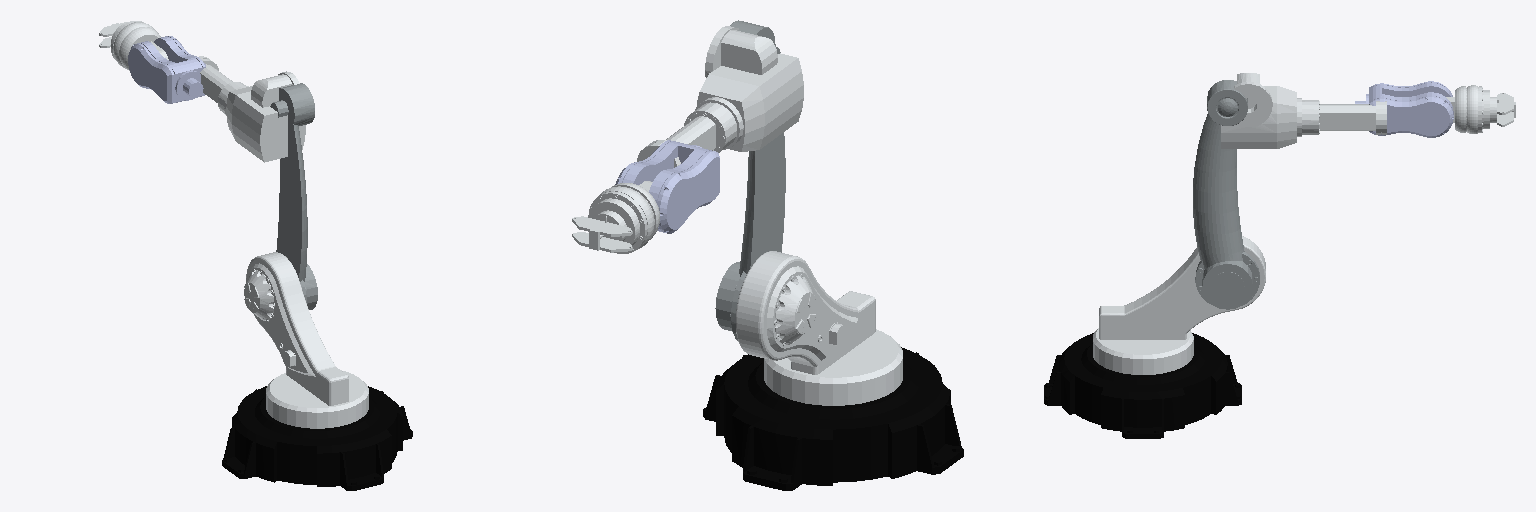
robot.urdf — dof6arm:
<?xml version="1.0" encoding="utf-8"?>
<!-- This URDF was automatically created by SolidWorks to URDF Exporter! Originally created by Stephen Brawner (brawner@gmail.com) 
     Commit Version: 1.6.0-4-g7f85cfe  Build Version: 1.6.7995.38578
     For more information, please see http://wiki.ros.org/sw_urdf_exporter -->
<robot
  name="dof6arm">
  <link
    name="base_link">
    <inertial>
      <origin
        xyz="-4.0770194671452E-17 5.83561963043712E-17 0.0396270399100885"
        rpy="0 0 0" />
      <mass
        value="5.51043299491621" />
      <inertia
        ixx="0.0325325116702204"
        ixy="-5.66701954647961E-17"
        ixz="6.57943646357064E-18"
        iyy="0.0325325116702204"
        iyz="1.85395737247361E-18"
        izz="0.0589048225198257" />
    </inertial>
    <visual>
      <origin
        xyz="0 0 0"
        rpy="0 0 0" />
      <geometry>
        <mesh
          filename="package://dof6arm/meshes/base_link.STL" />
      </geometry>
      <material
        name="">
        <color
          rgba="0.0588235294117647 0.0588235294117647 0.0588235294117647 1" />
      </material>
    </visual>
    <collision>
      <origin
        xyz="0 0 0"
        rpy="0 0 0" />
      <geometry>
        <mesh
          filename="package://dof6arm/meshes/base_link.STL" />
      </geometry>
    </collision>
  </link>
  <link
    name="link1">
    <inertial>
      <origin
        xyz="0.0563146133187169 0.00239652717597299 0.0813964976165743"
        rpy="0 0 0" />
      <mass
        value="2.25493378297323" />
      <inertia
        ixx="0.011607639577804"
        ixy="-0.000401687438060295"
        ixz="-0.00887971625811838"
        iyy="0.0231563698921059"
        iyz="-0.000351050031071559"
        izz="0.0158798775719755" />
    </inertial>
    <visual>
      <origin
        xyz="0 0 0"
        rpy="0 0 0" />
      <geometry>
        <mesh
          filename="package://dof6arm/meshes/link1.STL" />
      </geometry>
      <material
        name="">
        <color
          rgba="0.898039215686275 0.917647058823529 0.929411764705882 1" />
      </material>
    </visual>
    <collision>
      <origin
        xyz="0 0 0"
        rpy="0 0 0" />
      <geometry>
        <mesh
          filename="package://dof6arm/meshes/link1.STL" />
      </geometry>
    </collision>
  </link>
  <joint
    name="joint0"
    type="continuous">
    <origin
      xyz="0 0 0.085"
      rpy="0 0 1.57079632679489" />
    <parent
      link="base_link" />
    <child
      link="link1" />
    <axis
      xyz="0 0 1" />
    <limit
      lower="0"
      upper="6.28"
      effort="200"
      velocity="10" />
  </joint>
  <link
    name="link2">
    <inertial>
      <origin
        xyz="-0.00806034777883222 0.142663588040641 0.015222810563985"
        rpy="0 0 0" />
      <mass
        value="0.920714229759599" />
      <inertia
        ixx="0.0178612448022285"
        ixy="0.00015240648671748"
        ixz="-3.03747804024019E-05"
        iyy="0.000614865169369136"
        iyz="7.16300104564684E-05"
        izz="0.0182052343067563" />
    </inertial>
    <visual>
      <origin
        xyz="0 0 0"
        rpy="0 0 0" />
      <geometry>
        <mesh
          filename="package://dof6arm/meshes/link2.STL" />
      </geometry>
      <material
        name="">
        <color
          rgba="0.63921568627451 0.666666666666667 0.67843137254902 1" />
      </material>
    </visual>
    <collision>
      <origin
        xyz="0 0 0"
        rpy="0 0 0" />
      <geometry>
        <mesh
          filename="package://dof6arm/meshes/link2.STL" />
      </geometry>
    </collision>
  </link>
  <joint
    name="joint1"
    type="continuous">
    <origin
      xyz="0.150000000000022 -0.019999999999832 0.159999999999999"
      rpy="1.5707963267949 0 0" />
    <parent
      link="link1" />
    <child
      link="link2" />
    <axis
      xyz="0 0 1" />
    <limit
      lower="-0.70"
      upper="0.70"
      effort="200"
      velocity="10" />
  </joint>
  <link
    name="link3">
    <inertial>
      <origin
        xyz="-0.0399152602038644 -0.0446167070292327 -0.0460373494010405"
        rpy="0 0 0" />
      <mass
        value="1.43145554418529" />
      <inertia
        ixx="0.0080767659102491"
        ixy="-0.000324747907195899"
        ixz="-0.000112859910370775"
        iyy="0.00186636959248532"
        iyz="-9.34139422817104E-05"
        izz="0.00844554620214216" />
    </inertial>
    <visual>
      <origin
        xyz="0 0 0"
        rpy="0 0 0" />
      <geometry>
        <mesh
          filename="package://dof6arm/meshes/link3.STL" />
      </geometry>
      <material
        name="">
        <color
          rgba="0.898039215686275 0.917647058823529 0.929411764705882 1" />
      </material>
    </visual>
    <collision>
      <origin
        xyz="0 0 0"
        rpy="0 0 0" />
      <geometry>
        <mesh
          filename="package://dof6arm/meshes/link3.STL" />
      </geometry>
    </collision>
  </link>
  <joint
    name="joint2"
    type="continuous">
    <origin
      xyz="0 0.350000000000001 0"
      rpy="0 0 1.5707963267949" />
    <parent
      link="link2" />
    <child
      link="link3" />
    <axis
      xyz="0 0 1" />
    <limit
      lower="-4.71"
      upper="1.57"
      effort="200"
      velocity="10" />
  </joint>
  <link
    name="link4">
    <inertial>
      <origin
        xyz="-1.11022302462516E-16 -1.00613961606655E-15 0.065964889335451"
        rpy="0 0 0" />
      <mass
        value="0.581435273248316" />
      <inertia
        ixx="0.00158017066215487"
        ixy="2.44381629720969E-10"
        ixz="-7.39109767867271E-19"
        iyy="0.0014063460239573"
        iyz="-1.0554814422074E-18"
        izz="0.000596523986913165" />
    </inertial>
    <visual>
      <origin
        xyz="0 0 0"
        rpy="0 0 0" />
      <geometry>
        <mesh
          filename="package://dof6arm/meshes/link4.STL" />
      </geometry>
      <material
        name="">
        <color
          rgba="0.792156862745098 0.819607843137255 0.933333333333333 1" />
      </material>
    </visual>
    <collision>
      <origin
        xyz="0 0 0"
        rpy="0 0 0" />
      <geometry>
        <mesh
          filename="package://dof6arm/meshes/link4.STL" />
      </geometry>
    </collision>
  </link>
  <joint
    name="joint3"
    type="continuous">
    <origin
      xyz="-0.045 -0.251 -0.0474999999999995"
      rpy="1.5707963267949 0 0" />
    <parent
      link="link3" />
    <child
      link="link4" />
    <axis
      xyz="0 0 1" />
    <limit
      lower="-3.14"
      upper="3.14"
      effort="200"
      velocity="10" />
  </joint>
  <link
    name="link5">
    <inertial>
      <origin
        xyz="0 -0.0589618551287789 0.00017831823908418"
        rpy="0 0 0" />
      <mass
        value="0.339144547925522" />
      <inertia
        ixx="0.000355541202477726"
        ixy="-2.59477164725886E-22"
        ixz="1.64281985827674E-22"
        iyy="0.000248853470602005"
        iyz="-3.56575702010573E-06"
        izz="0.000358769992191287" />
    </inertial>
    <visual>
      <origin
        xyz="0 0 0"
        rpy="0 0 0" />
      <geometry>
        <mesh
          filename="package://dof6arm/meshes/link5.STL" />
      </geometry>
      <material
        name="">
        <color
          rgba="0.898039215686275 0.917647058823529 0.929411764705882 1" />
      </material>
    </visual>
    <collision>
      <origin
        xyz="0 0 0"
        rpy="0 0 0" />
      <geometry>
        <mesh
          filename="package://dof6arm/meshes/link5.STL" />
      </geometry>
    </collision>
  </link>
  <joint
    name="joint4"
    type="continuous">
    <origin
      xyz="0 0.00050000000000075 0.11"
      rpy="-1.5707963267949 0 0" />
    <parent
      link="link4" />
    <child
      link="link5" />
    <axis
      xyz="0 0 1" />
    <limit
      lower="-1.57"
      upper="1.57"
      effort="200"
      velocity="10" />
  </joint>
  <link
    name="link6">
    <inertial>
      <origin
        xyz="1.11022302462516E-16 -1.17961196366423E-15 0.00628470620704225"
        rpy="0 0 0" />
      <mass
        value="0.0762574810565132" />
      <inertia
        ixx="3.79559798700621E-05"
        ixy="-5.78143732477703E-21"
        ixz="3.82889549930142E-22"
        iyy="3.20288004196063E-05"
        iyz="2.64604355316731E-20"
        izz="3.99525744954328E-05" />
    </inertial>
    <visual>
      <origin
        xyz="0 0 0"
        rpy="0 0 0" />
      <geometry>
        <mesh
          filename="package://dof6arm/meshes/link6.STL" />
      </geometry>
      <material
        name="">
        <color
          rgba="0.898039215686275 0.917647058823529 0.929411764705882 1" />
      </material>
    </visual>
    <collision>
      <origin
        xyz="0 0 0"
        rpy="0 0 0" />
      <geometry>
        <mesh
          filename="package://dof6arm/meshes/link6.STL" />
      </geometry>
    </collision>
  </link>
  <joint
    name="joint5"
    type="continuous">
    <origin
      xyz="0 -0.104 0"
      rpy="1.5707963267949 0 0" />
    <parent
      link="link5" />
    <child
      link="link6" />
    <axis
      xyz="0 0 1" />
    <limit
      lower="-3.14"
      upper="3.14"
      effort="200"
      velocity="10" />
  </joint>
  <link
    name="endfector">
    <inertial>
      <origin
        xyz="1.11022302462516E-16 -1.12410081243297E-15 -0.0393199974870748"
        rpy="0 0 0" />
      <mass
        value="0.0762574810565132" />
      <inertia
        ixx="3.79559798700621E-05"
        ixy="-3.42762367535721E-21"
        ixz="4.79566405709865E-23"
        iyy="3.20288004196063E-05"
        iyz="3.36252849364977E-21"
        izz="3.99525744954328E-05" />
    </inertial>
    <visual>
      <origin
        xyz="0 0 0"
        rpy="0 0 0" />
      <geometry>
        <mesh
          filename="package://dof6arm/meshes/endfector.STL" />
      </geometry>
      <material
        name="">
        <color
          rgba="0.898039215686275 0.917647058823529 0.929411764705882 1" />
      </material>
    </visual>
    <collision>
      <origin
        xyz="0 0 0"
        rpy="0 0 0" />
      <geometry>
        <mesh
          filename="package://dof6arm/meshes/endfector.STL" />
      </geometry>
    </collision>
  </link>
  <joint
    name="joint6"
    type="fixed">
    <origin
      xyz="0 0 0.045605"
      rpy="0 0 0" />
    <parent
      link="link6" />
    <child
      link="endfector" />
    <axis
      xyz="0 0 0" />
  </joint>
</robot>

--- Facts derived from the render (not from the file) ---
The picture shows the robot from 3 angles, left to right: view 1: azimuth 30°, elevation 25°; view 2: azimuth 150°, elevation 25°; view 3: azimuth 270°, elevation 25°; orthographic projection.
Model dof6arm with 8 links and 7 joints (6 continuous, 1 fixed), rooted at base_link, posed every joint at zero.
Links seen in each view (by area): view 1: base_link, link1, link2, link3, link4, link5; view 2: base_link, link1, link3, link2, link4, link6, link5; view 3: base_link, link2, link1, link3, link4, link5, link6.
Boxes of the visible links, bbox=[...] form: base_link: bbox=[222, 386, 412, 490]; link1: bbox=[244, 252, 368, 428]; link2: bbox=[270, 83, 317, 309]; link3: bbox=[199, 56, 305, 162]; link4: bbox=[128, 36, 205, 103]; link5: bbox=[111, 21, 168, 70]; base_link: bbox=[703, 347, 963, 490]; link1: bbox=[736, 251, 902, 405]; link3: bbox=[637, 26, 803, 167]; link2: bbox=[715, 20, 785, 340]; link4: bbox=[615, 140, 719, 233]; link6: bbox=[572, 199, 638, 252]; link5: bbox=[588, 181, 659, 253]; base_link: bbox=[1044, 333, 1241, 438]; link2: bbox=[1193, 80, 1259, 309]; link1: bbox=[1093, 236, 1265, 374]; link3: bbox=[1221, 73, 1386, 148]; link4: bbox=[1355, 81, 1453, 137]; link5: bbox=[1446, 85, 1483, 133]; link6: bbox=[1484, 90, 1515, 128].
Bounding box of the posed robot: 0.35 × 0.8356 × 0.6394 m (x, y, z).
Meshes: 8 distinct files referenced, 8 mesh visuals loaded (8 binary STL).
